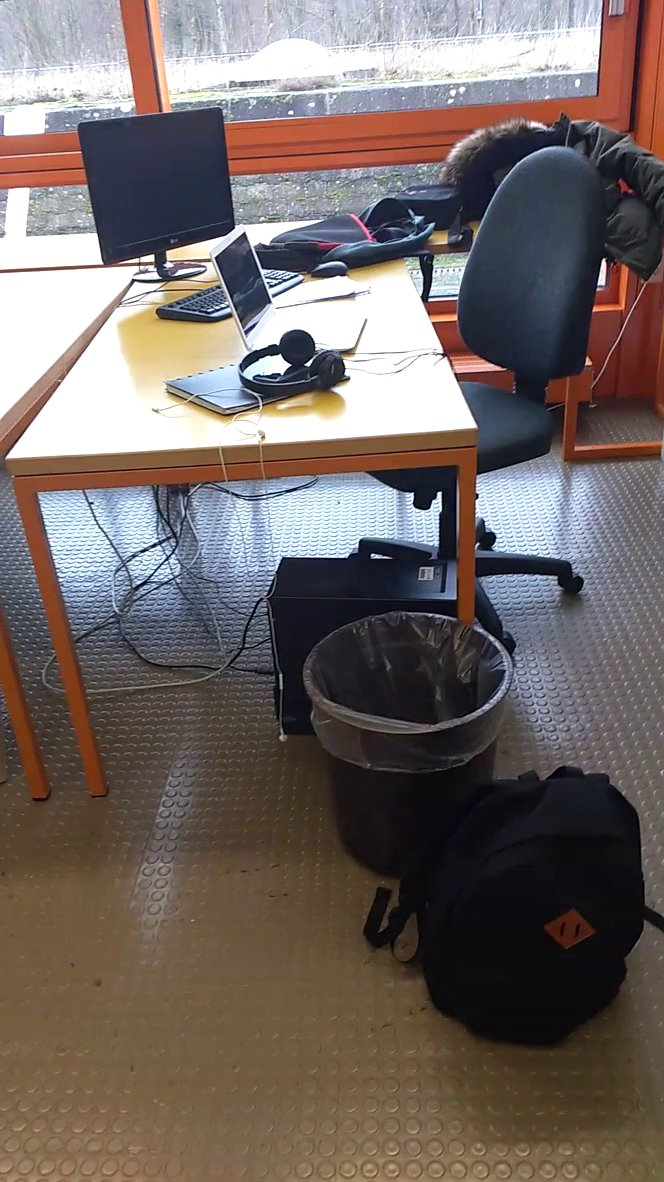bag: (363, 757, 664, 1061)
bin: (288, 596, 532, 819)
chair: (363, 135, 634, 619)
laptop: (205, 217, 377, 366)
